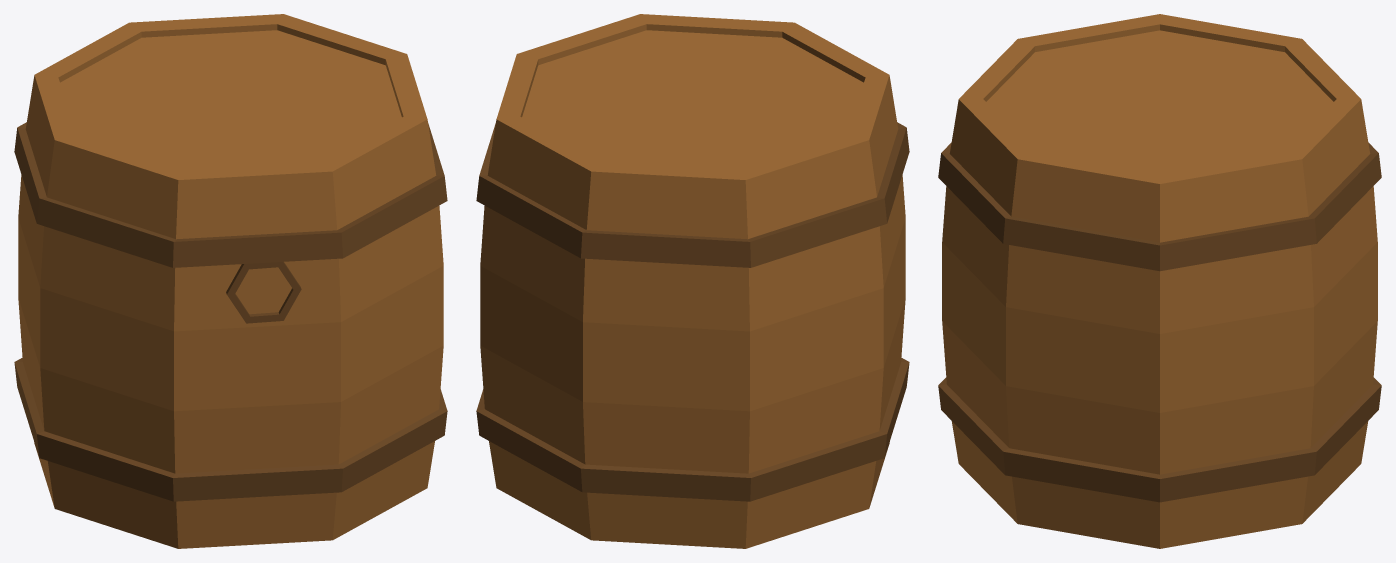
Rendered from Barrel1.fbx.
3 views of the same model, side by side, from view 1: azimuth 30°, elevation 25°; view 2: azimuth 150°, elevation 25°; view 3: azimuth 270°, elevation 25° (orthographic).
Parts seen in each view (by area): view 1: Cylinder.023; view 2: Cylinder.023; view 3: Cylinder.023.
Boxes of the visible parts, x1,y1,x2,y2 form: Cylinder.023: (14,14,447,548); Cylinder.023: (476,14,909,548); Cylinder.023: (938,14,1381,548).
Size of the model in its own units: 123 by 111 by 123.
